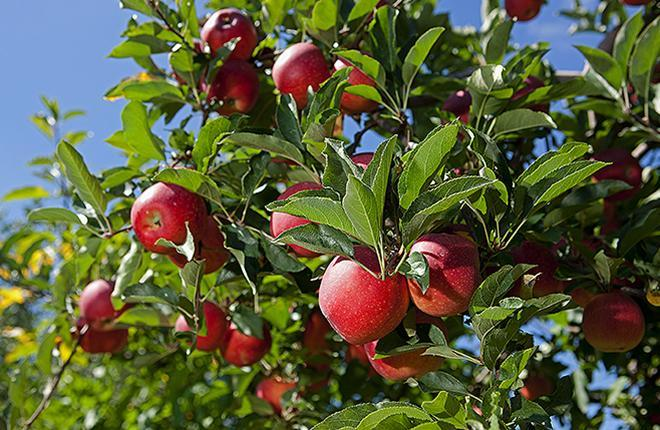apple: (319, 248, 406, 344), (133, 182, 213, 257), (409, 233, 481, 313), (271, 42, 329, 110), (580, 292, 644, 353), (204, 64, 259, 118), (76, 278, 123, 331), (253, 376, 296, 415)
